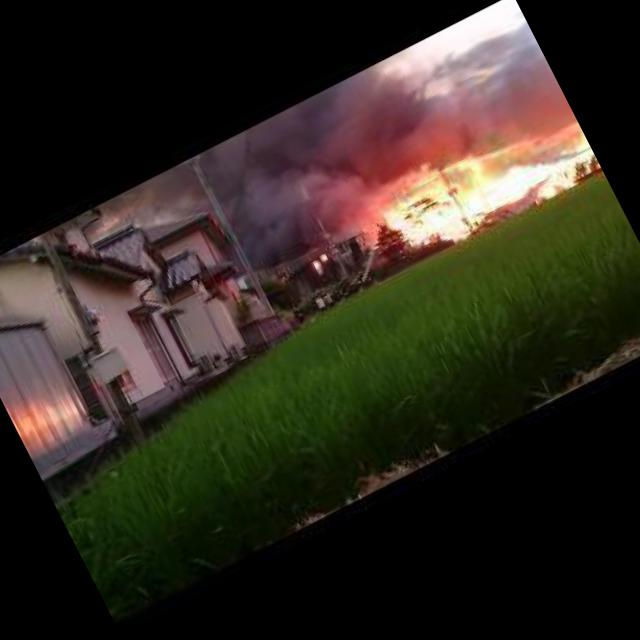fire: (366, 96, 602, 269)
smoke: (180, 0, 572, 280)
